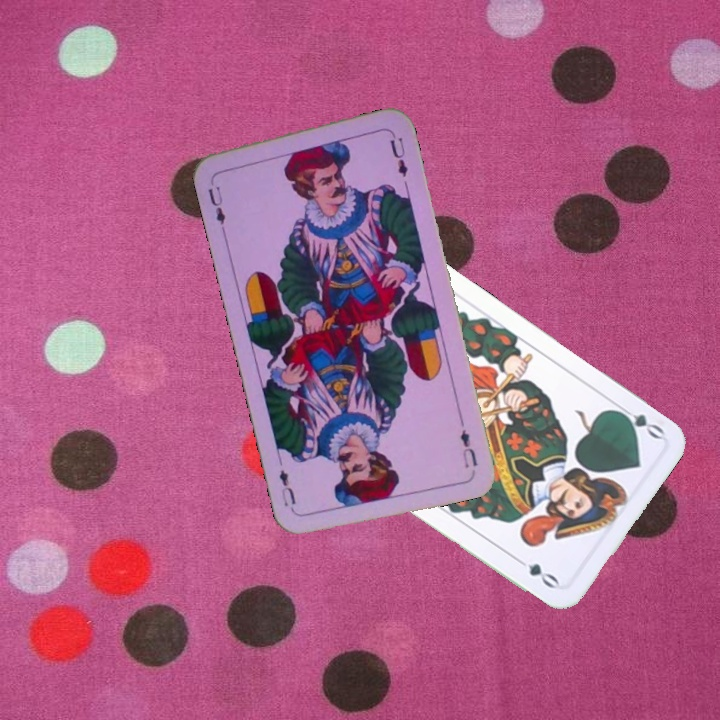EU: (204, 175, 228, 227), (456, 425, 480, 471)
GO: (610, 400, 667, 442)
